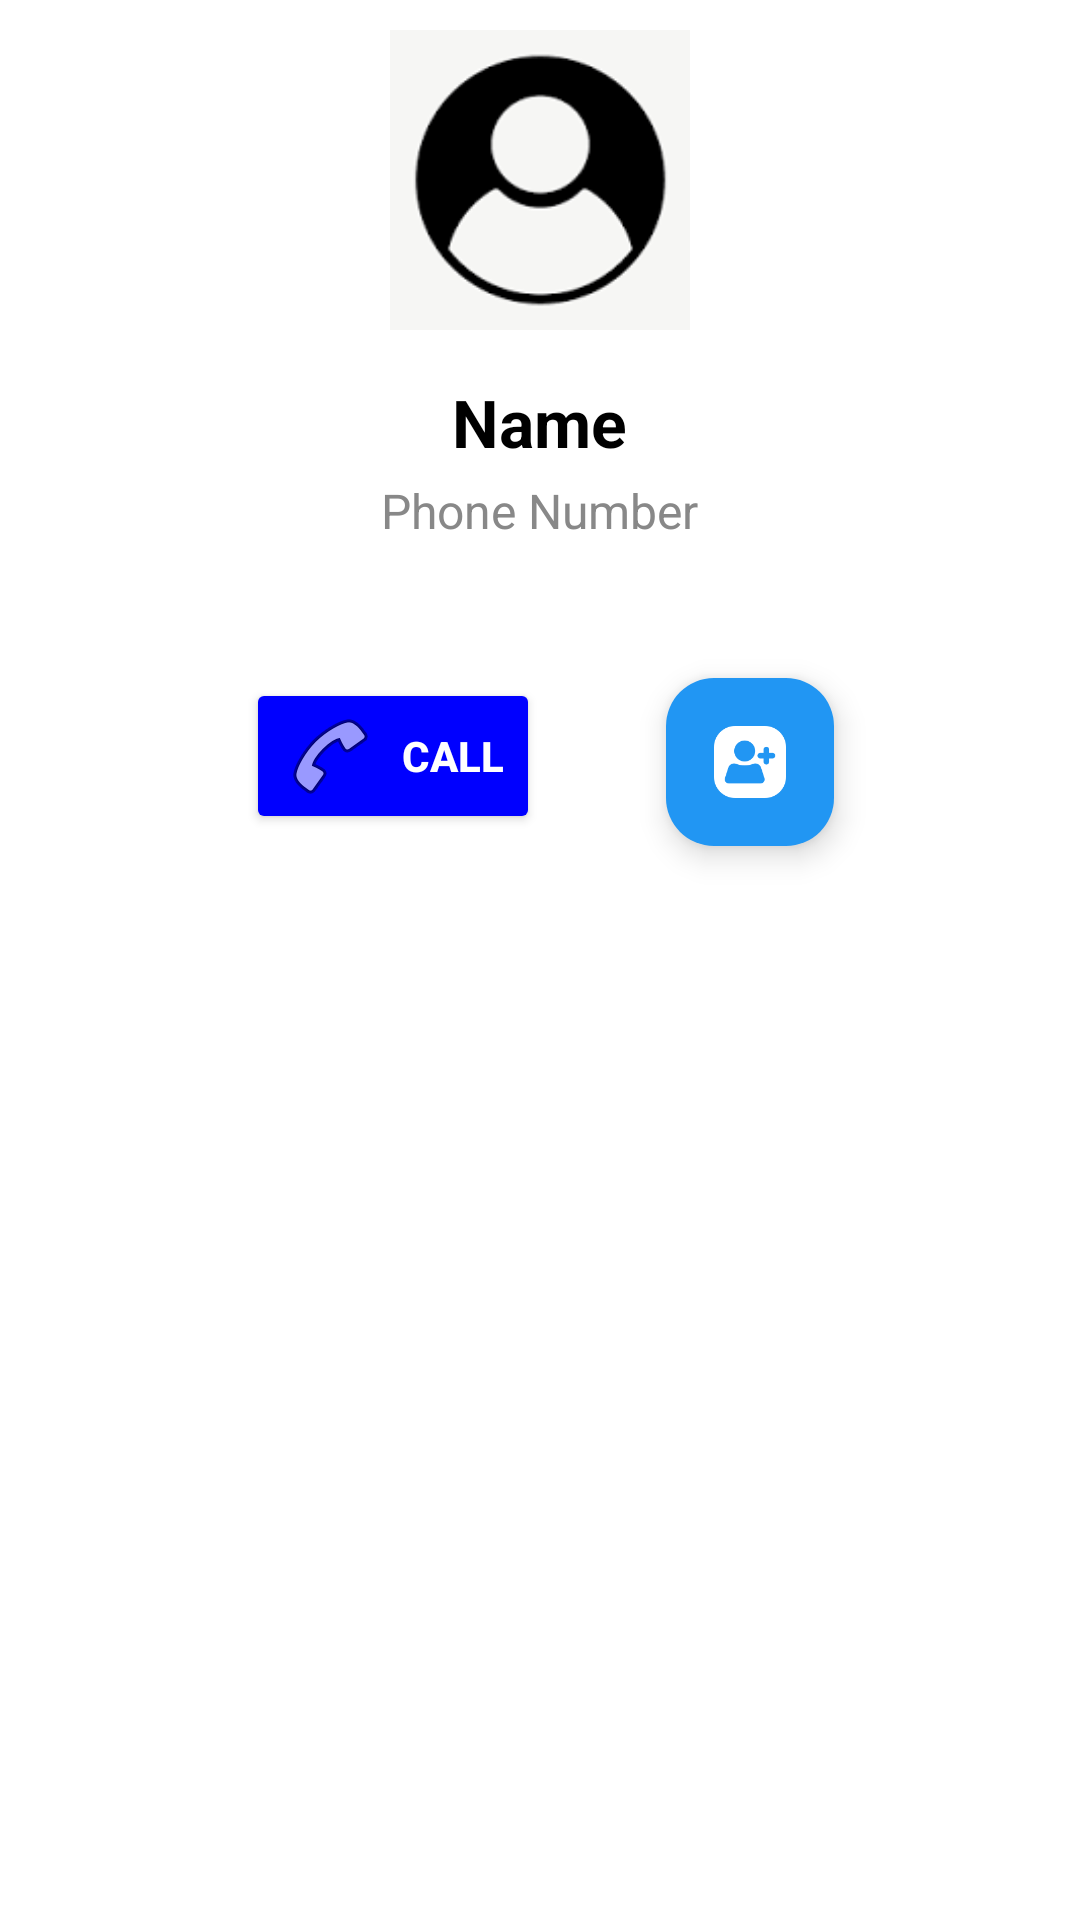

Icons on this 1080w x 1920h Android screen, each with its box as (x1, y1, x2, y2):
addcontact: (666, 678, 834, 846)
Contact Image: (390, 30, 690, 330)
